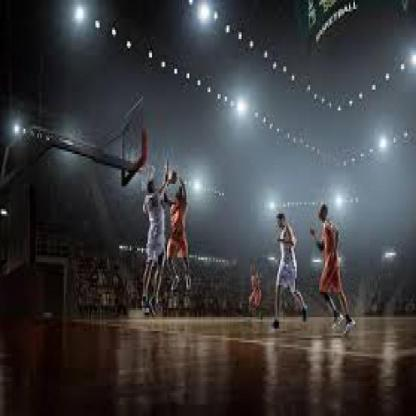basketball: (168, 168, 178, 184)
rim: (140, 163, 156, 175)
